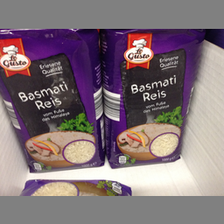rice: (1, 30, 105, 172), (101, 30, 206, 169)
